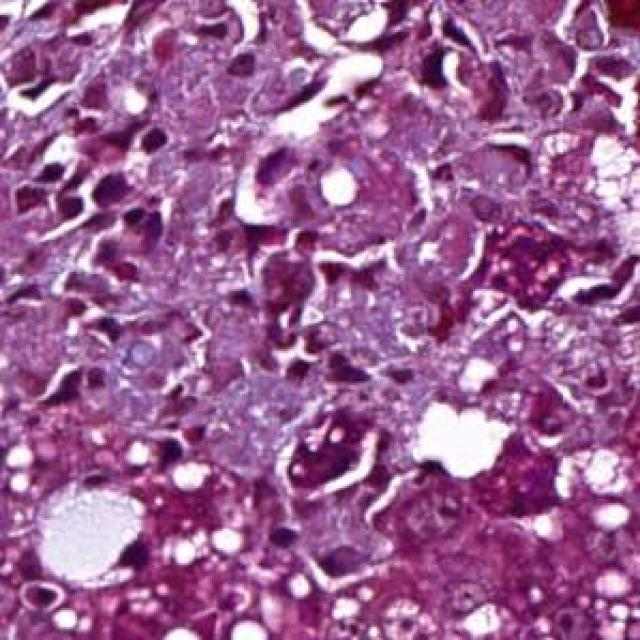ballooning: (584, 132, 640, 268), (552, 437, 640, 503)
